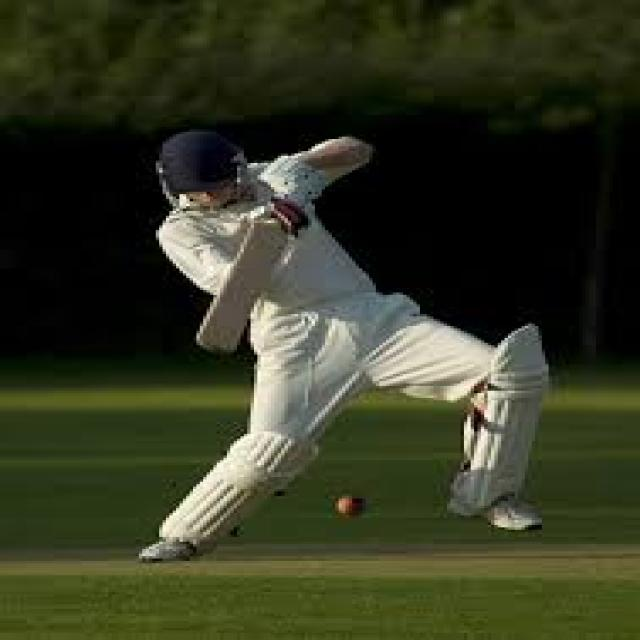toe: (193, 314, 255, 361)
